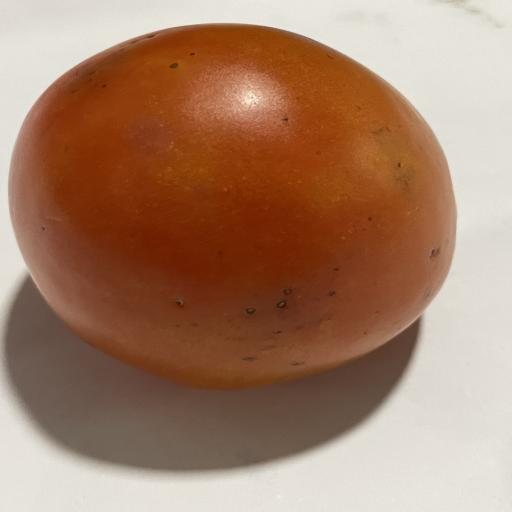ripe: (9, 24, 456, 388)
